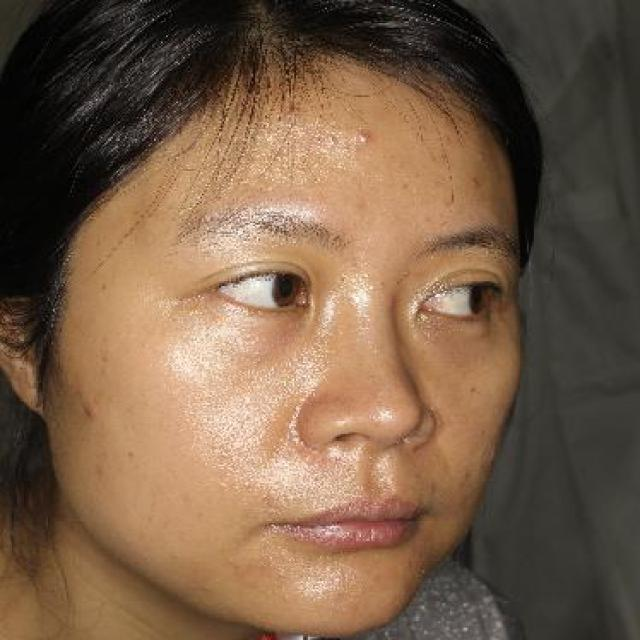blackheads: (292, 163, 310, 179)
papules: (346, 121, 382, 148), (462, 174, 489, 200), (74, 398, 101, 424)
whiteheads: (467, 148, 498, 169), (332, 143, 358, 159), (397, 262, 419, 280), (236, 477, 257, 491)
